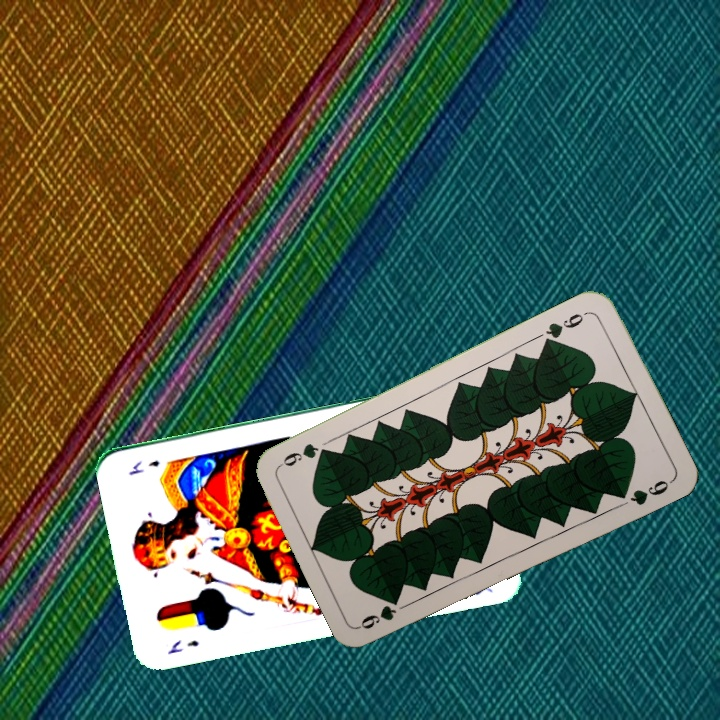EK: (163, 636, 202, 657)
G9: (540, 307, 592, 347), (356, 602, 399, 632)
